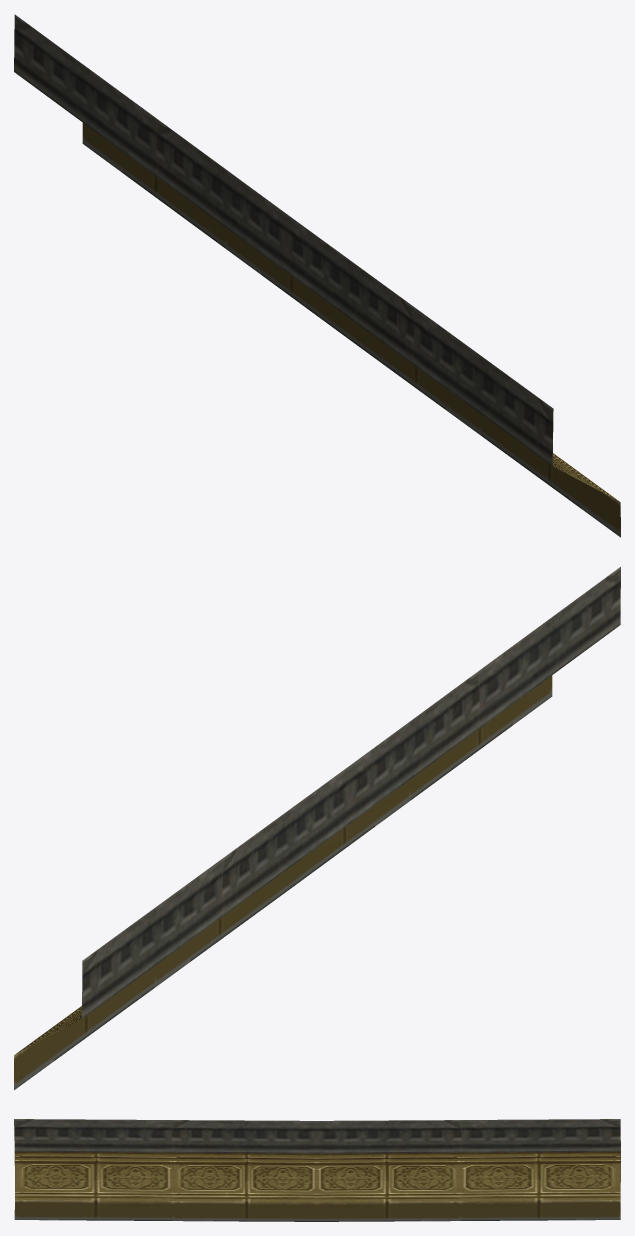
The model's file is Item_3001_dimianwujian_lubian.FBX.
3 views of the same model, one above another, from view 1: azimuth 30°, elevation 25°; view 2: azimuth 150°, elevation 25°; view 3: azimuth 270°, elevation 25° (orthographic). The views are drawn at different scales.
Parts seen in each view (by area): view 1: Item_3001_dimianwujian_lubian; view 2: Item_3001_dimianwujian_lubian; view 3: Item_3001_dimianwujian_lubian.
Part boxes in pixels (<box>): Item_3001_dimianwujian_lubian: <box>14,14,620,537</box>; Item_3001_dimianwujian_lubian: <box>14,567,620,1090</box>; Item_3001_dimianwujian_lubian: <box>14,1119,620,1221</box>.
Bounding box in the file's own units: 61.24 × 124 × 815.
